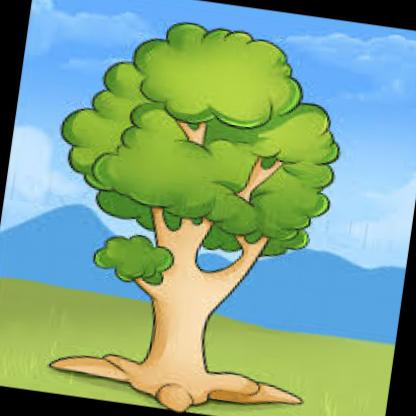branch_cut: (133, 108, 286, 284)
crown_cloud: (41, 2, 355, 267)
root_only: (41, 340, 310, 416)
trunk_straight: (138, 306, 218, 365)
